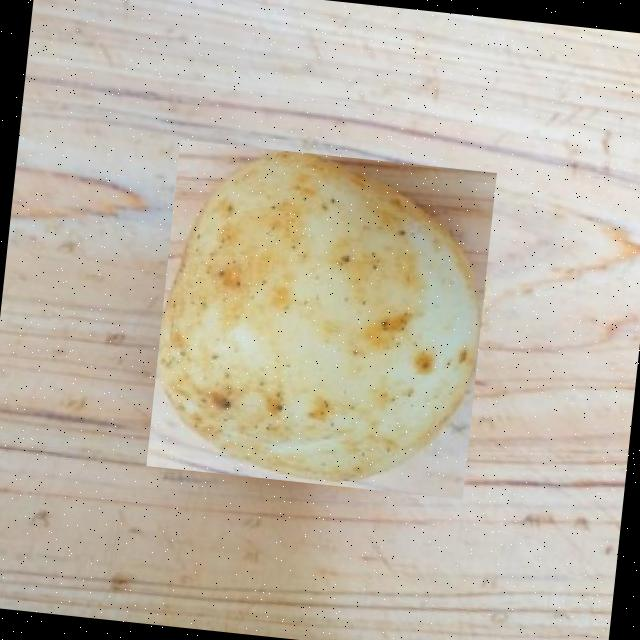Potato: (144, 138, 496, 498)
